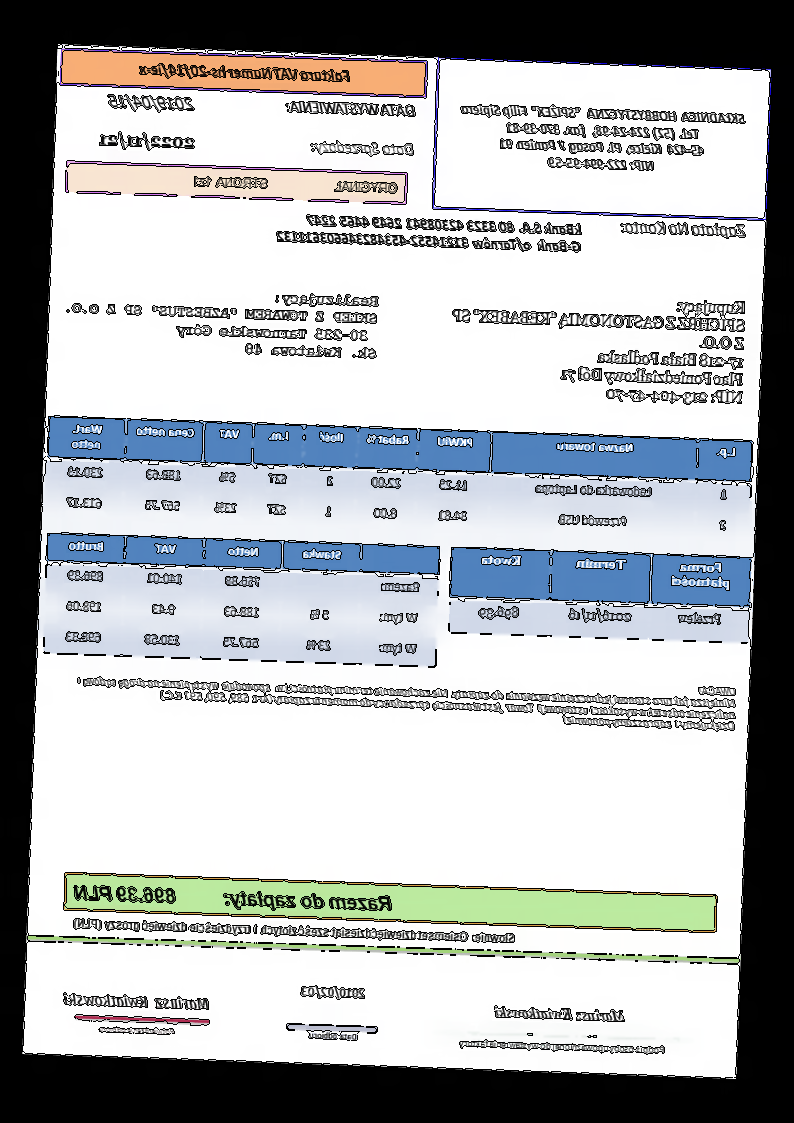Table: (43, 414, 755, 547), (43, 530, 442, 668), (449, 545, 753, 645)
TextBox: (72, 660, 739, 734), (444, 285, 751, 408), (64, 281, 383, 363), (458, 99, 747, 176), (69, 913, 517, 949), (274, 209, 585, 254), (70, 878, 395, 917), (138, 59, 353, 86), (456, 1033, 668, 1060), (189, 171, 400, 197), (58, 990, 212, 1015), (492, 1000, 628, 1026), (284, 96, 418, 119), (617, 217, 751, 240), (309, 136, 417, 160), (98, 130, 199, 155), (106, 91, 198, 114), (97, 1021, 177, 1041), (300, 982, 369, 1003), (306, 1028, 361, 1042)
